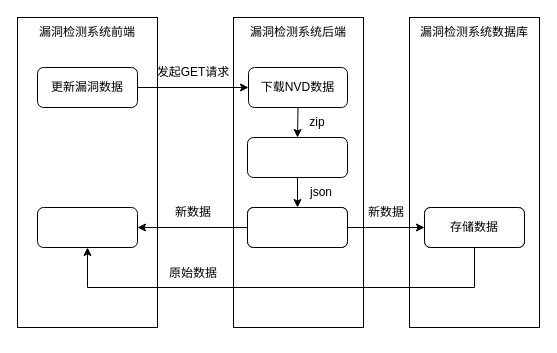
This 557x353 diagram has some shape labels left out. Here are the shapes that lost their labels. From the top down, the centre of each, then its label:
(297,157): 转换数据格式
(87,227): 数据更新
(297,227): 清洗数据
